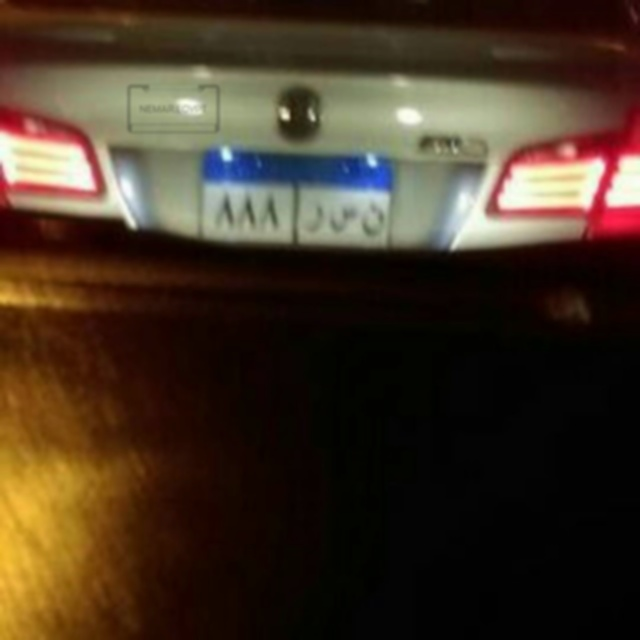License Plate: (197, 146, 397, 254)
